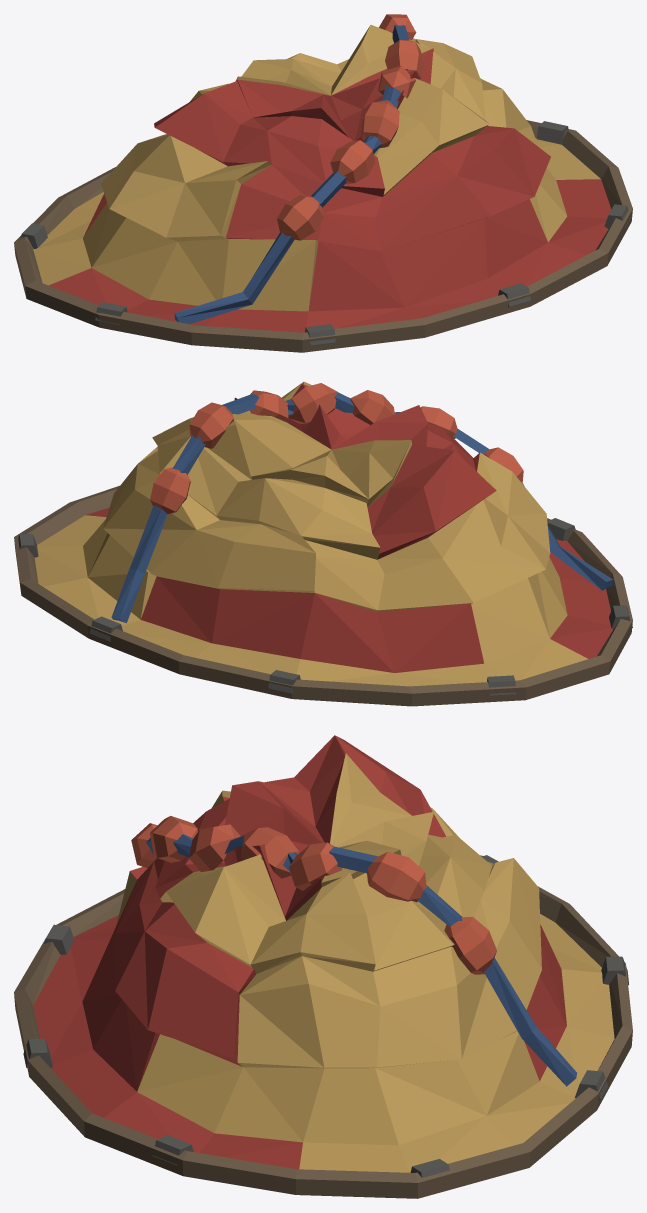
File: fishing-net.glb
3 views of the same model, one above another, from view 1: azimuth 30°, elevation 25°; view 2: azimuth 150°, elevation 25°; view 3: azimuth 270°, elevation 25° (orthographic). The views are drawn at different scales.
Parts seen in each view (by area): view 1: net-heap; view 2: net-heap; view 3: net-heap.
Part boxes in pixels (<box>): net-heap: <box>14,14,632,352</box>; net-heap: <box>14,381,632,706</box>; net-heap: <box>14,735,632,1198</box>.
Size of the model in its own units: 1.99 by 0.6076 by 1.49.
